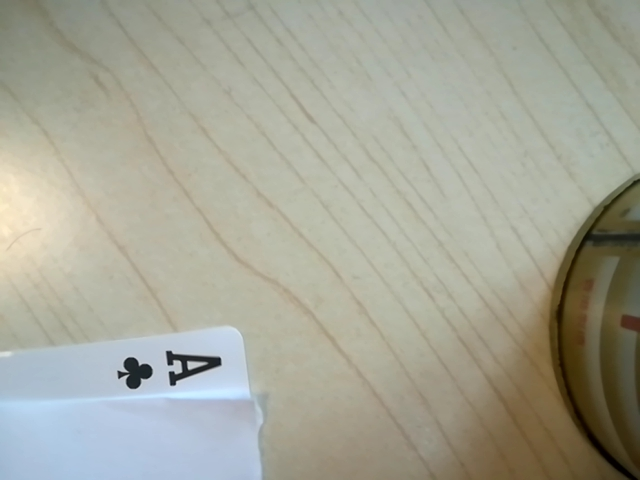mh a: (97, 339, 244, 403)
